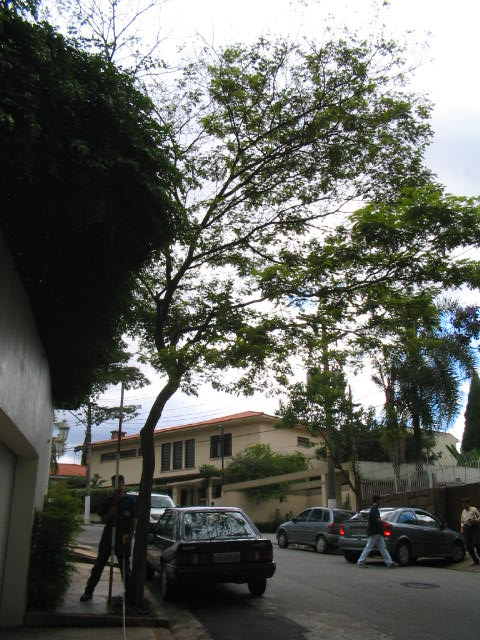crown: (100, 18, 478, 425)
stem: (128, 377, 183, 606)
stick: (105, 381, 128, 604)
tree: (97, 18, 480, 607)
